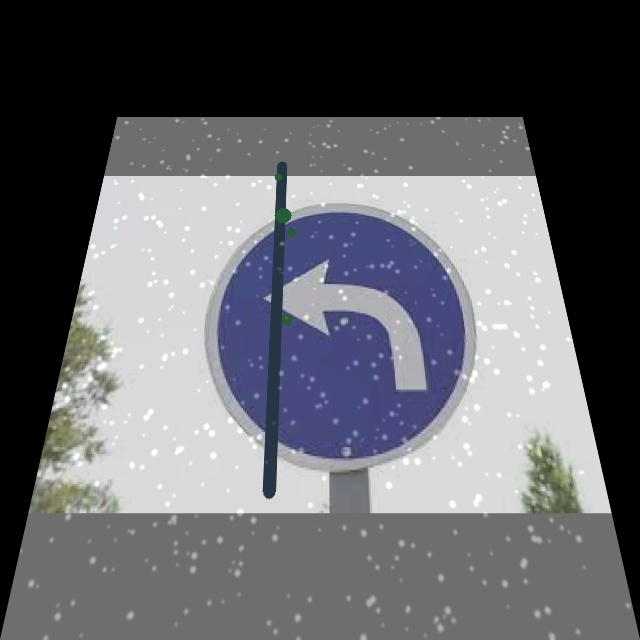Compulsory_Turn_Left_Ahead: (196, 201, 492, 468)
